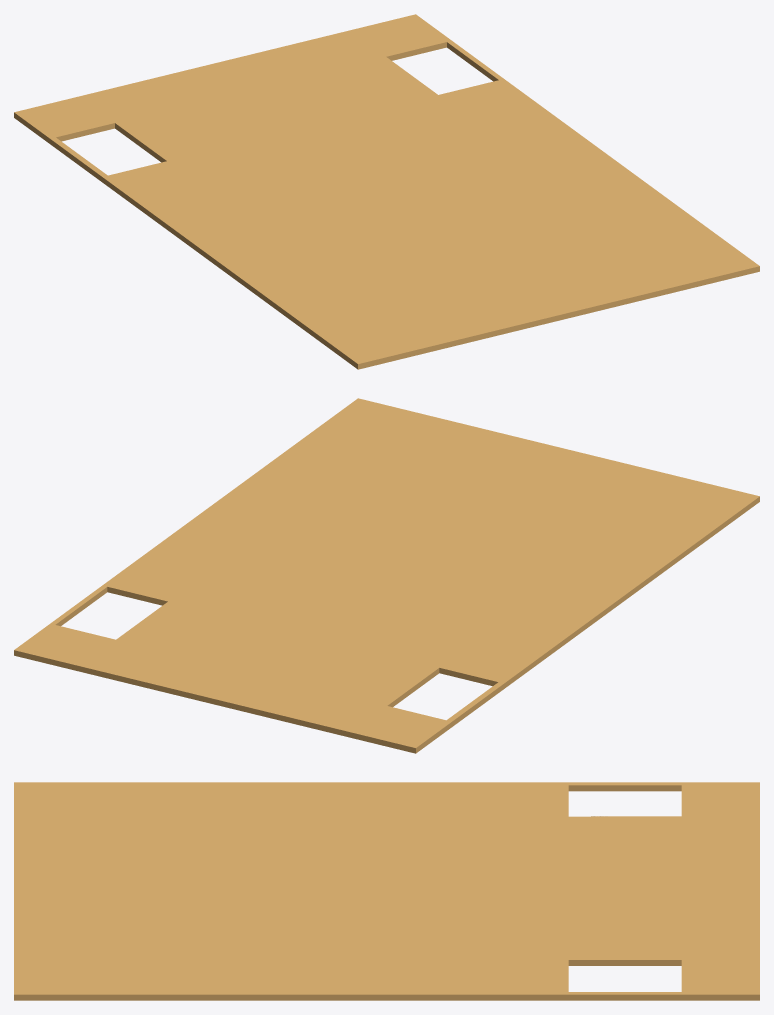
The model's file is PisoLow.fbx.
3 renders of one model, top to bottom at view 1: azimuth 30°, elevation 25°; view 2: azimuth 150°, elevation 25°; view 3: azimuth 270°, elevation 25°, orthographic. The views are drawn at different scales.
Parts seen in each view (by area): view 1: Piso.001; view 2: Piso.001; view 3: Piso.001.
Part boxes in pixels (x1,y1,x2,y2): Piso.001: (14,14,759,369); Piso.001: (14,398,759,753); Piso.001: (14,782,759,1000).
Size of the model in its own units: 3677 by 48.21 by 5453.
